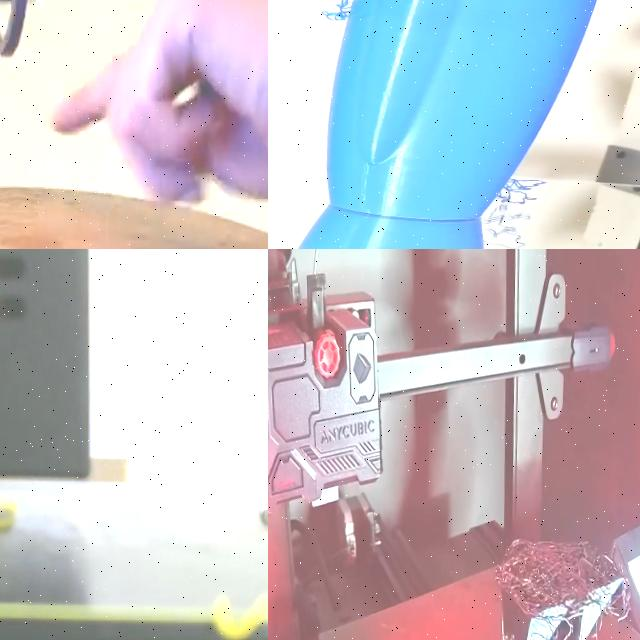spaghetti: (486, 517, 640, 640), (497, 168, 548, 214), (293, 0, 382, 20)
